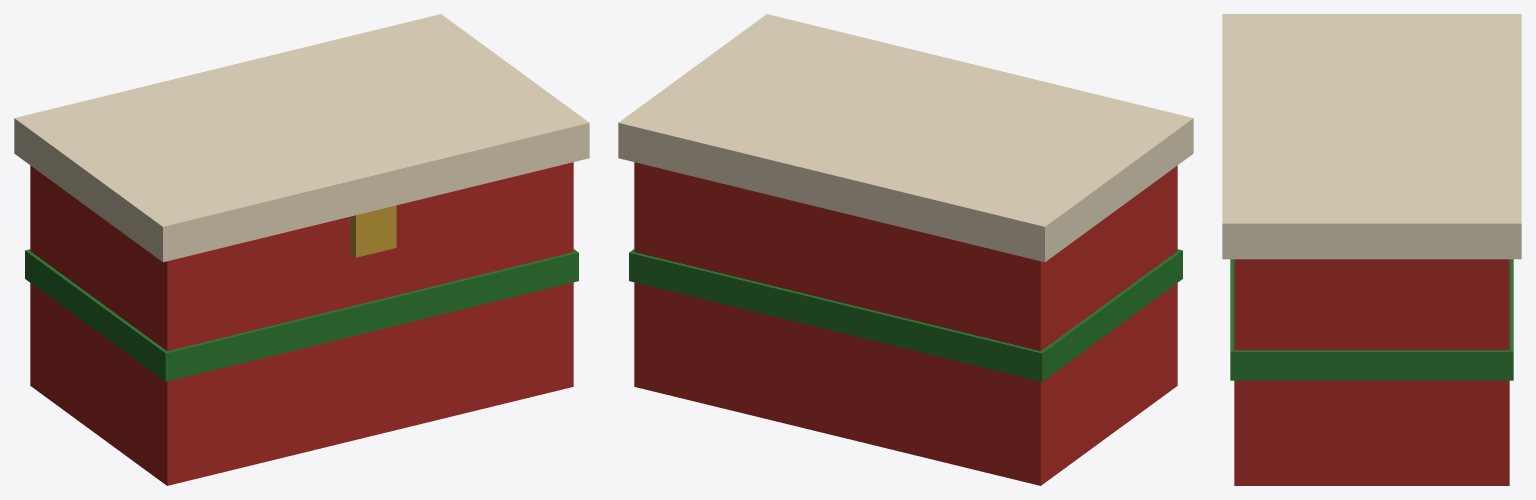
File: toybox.glb
The picture shows the model from 3 angles, left to right: view 1: azimuth 30°, elevation 25°; view 2: azimuth 150°, elevation 25°; view 3: azimuth 270°, elevation 25°; orthographic projection.
Visible parts, largest first — view 1: toybox; view 2: toybox; view 3: toybox.
Part boxes in pixels (box(x1,y1,x2,y2)): toybox: box(14, 14, 589, 485); toybox: box(618, 14, 1193, 485); toybox: box(1222, 14, 1521, 485).
Size of the model in its own units: 1.26 by 0.75 by 0.76.
